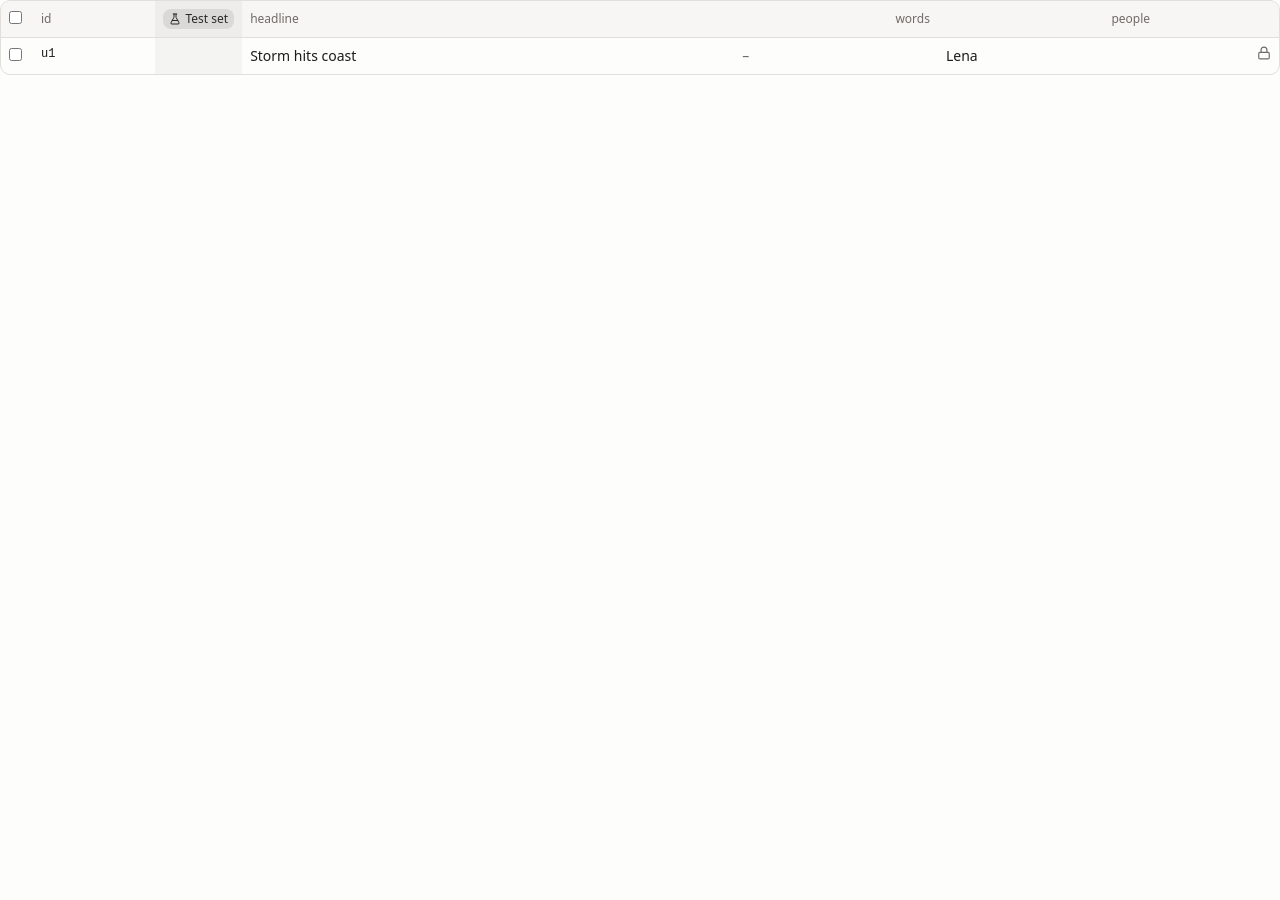
Test: the units table › a click on a unit's id shows the unit with its fields in full
Click the button titled "Show this unit" at (48,54), box x1=41 y1=46 x2=55 y2=62
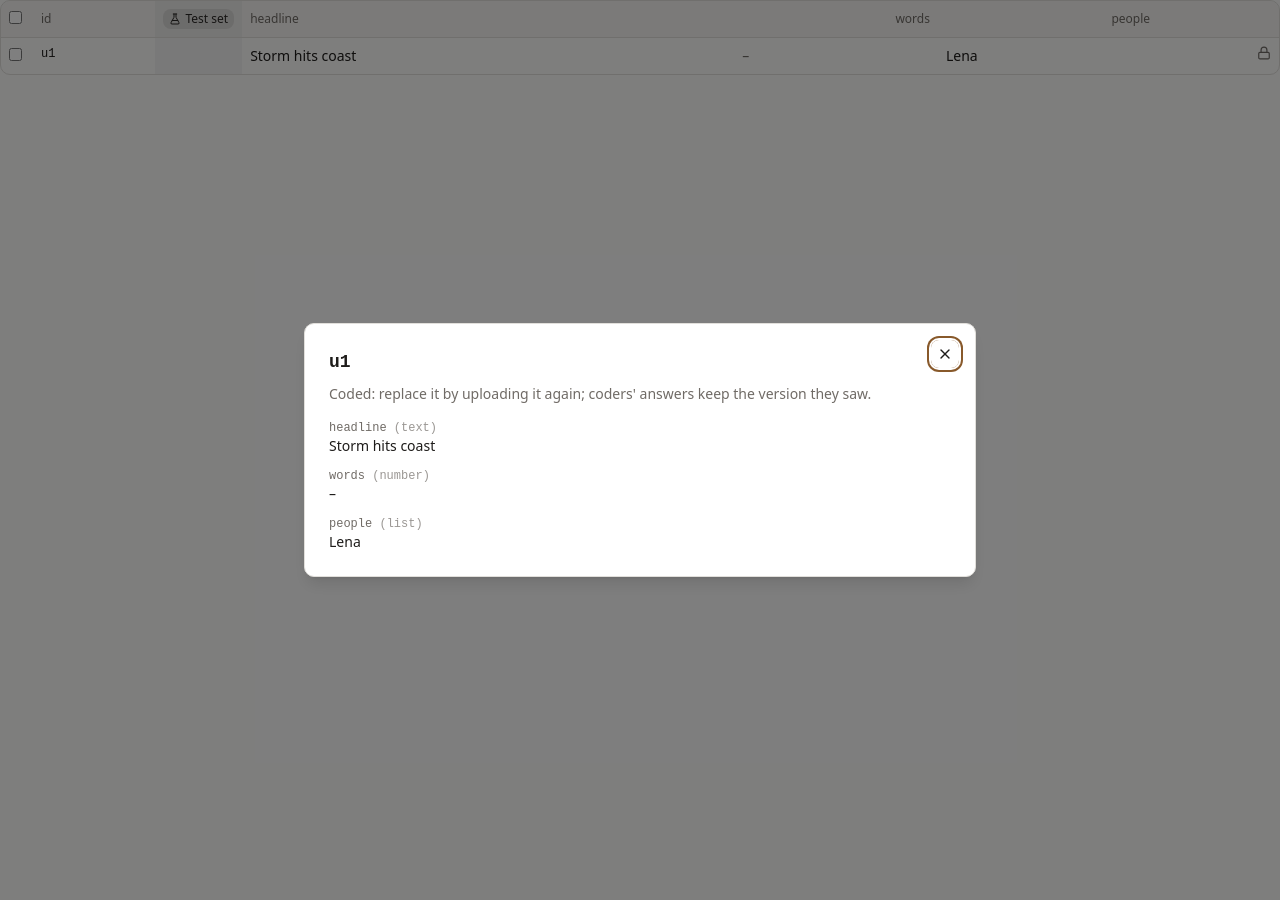
Result: the text "Storm hits coast" is shown at x1=329 y1=436 x2=435 y2=455
Result: the text "Coded: replace it by uploading it again" is shown at x1=329 y1=384 x2=871 y2=403
Result: the text "Lena" is shown at x1=329 y1=532 x2=361 y2=551
